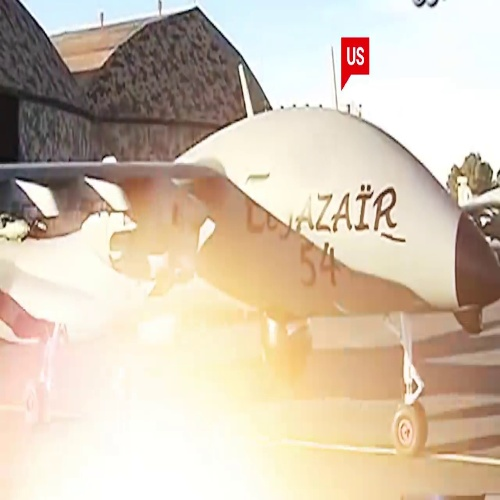uav: (5, 97, 497, 458)
